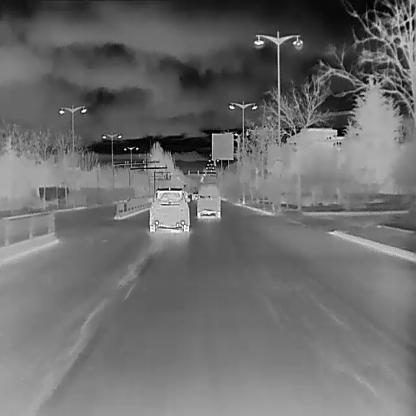car: (148, 186, 190, 232), (195, 181, 221, 219), (191, 191, 200, 200)
